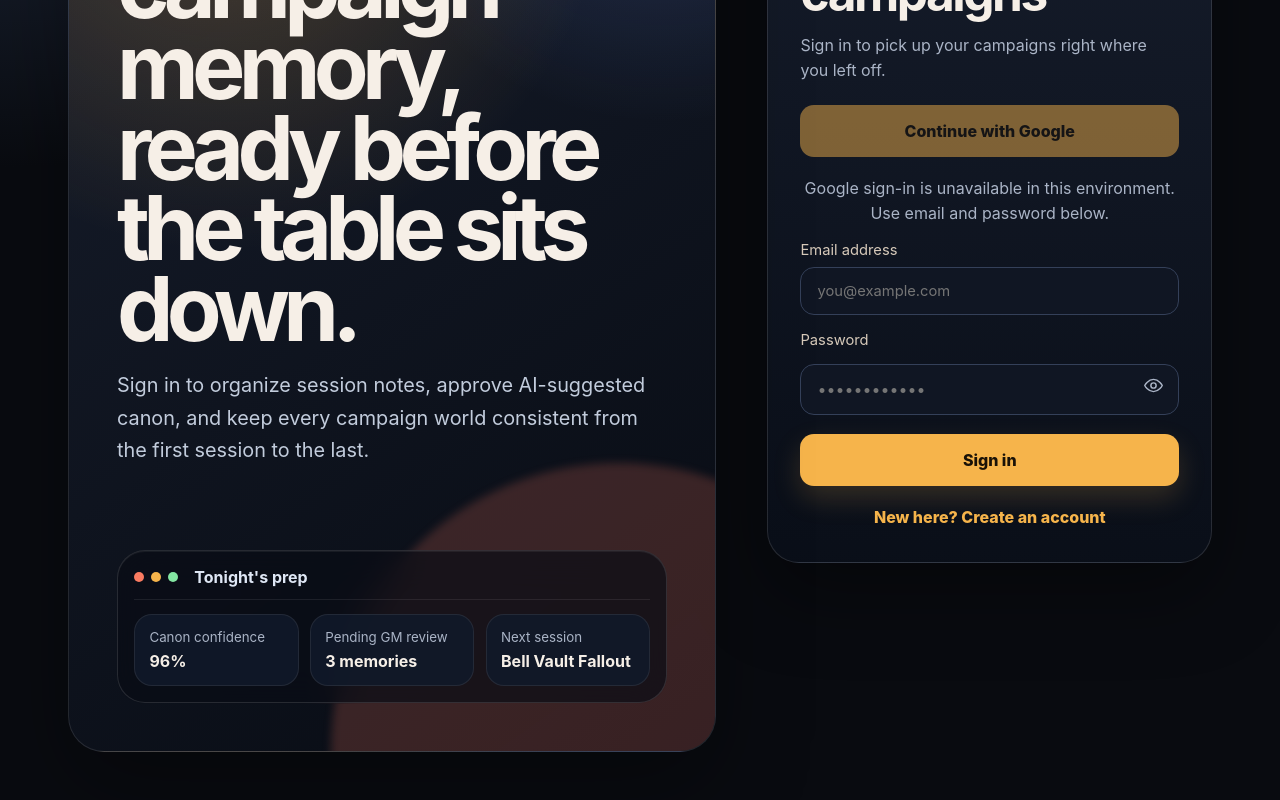
Test case: requires email verification after Firebase signup instead of opening campaigns
(page scrolled)
Click the button "New here? Create an account" at (990, 517), box [874,505,1106,530]
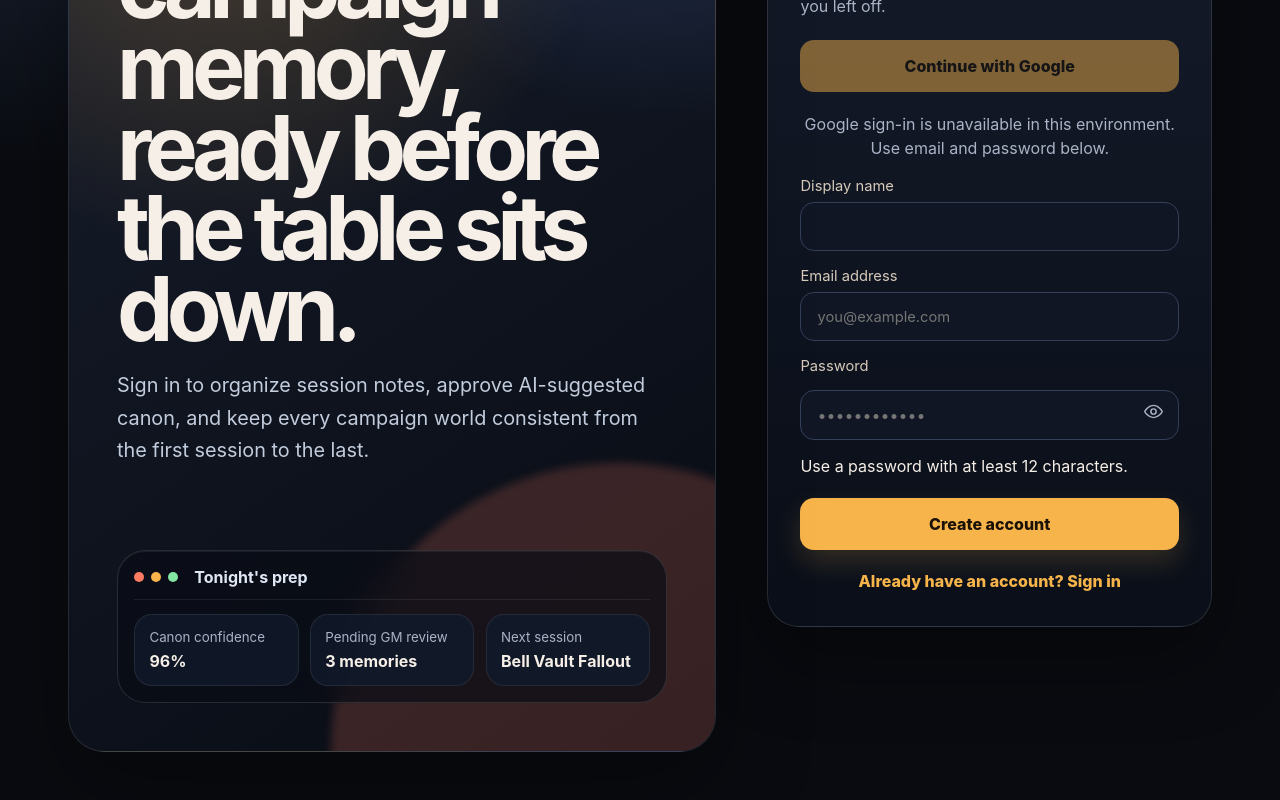
Type "GM" into the field labelled "Display name" at (990, 227), box [800,202,1179,251]
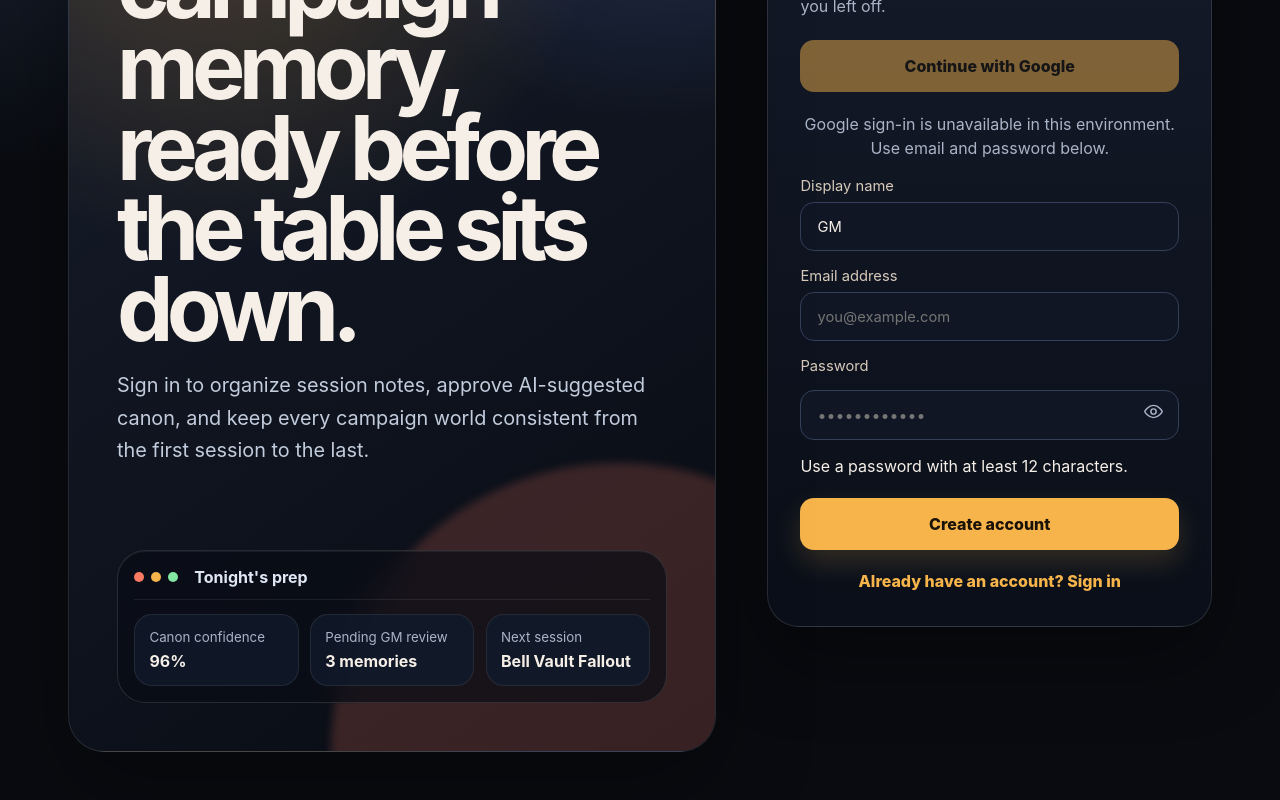
Type "gm@example.com" into the field labelled "Email address" at (990, 317), box [800,292,1179,341]
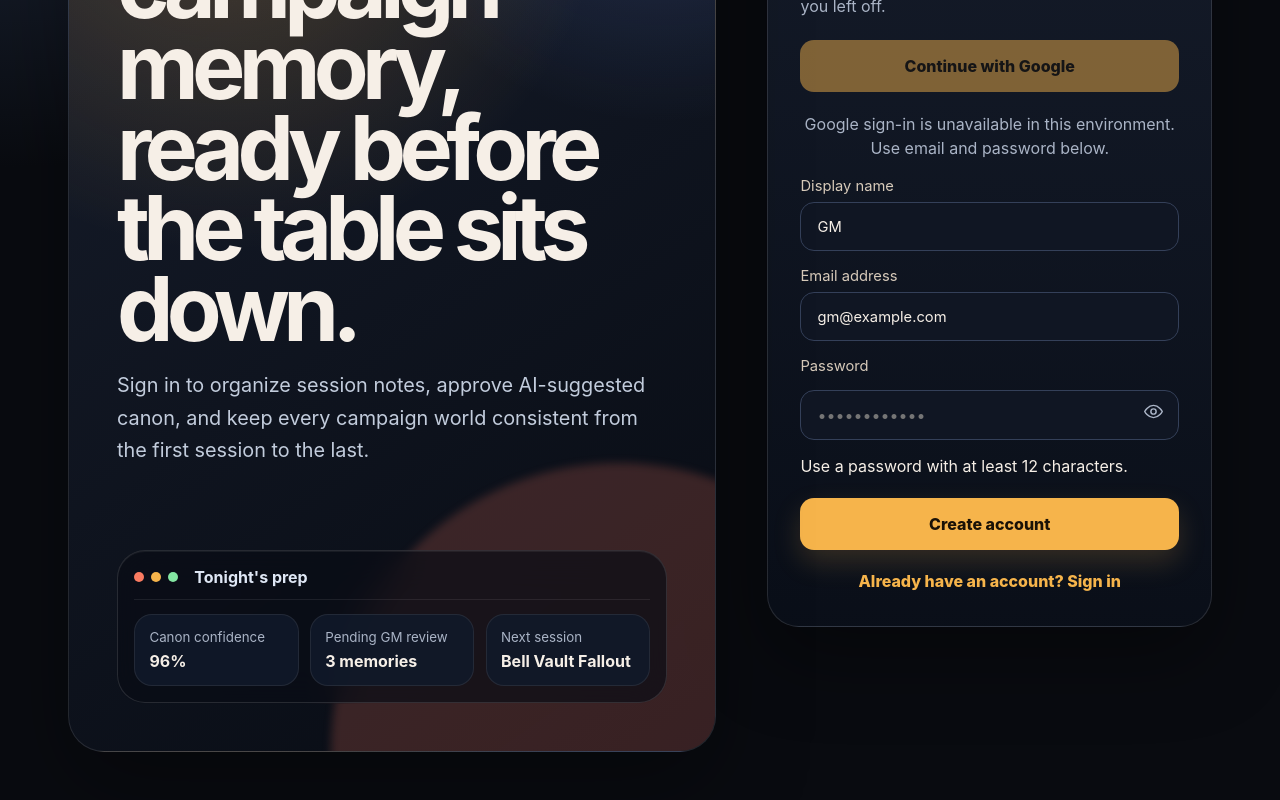
Type "strong-test-password" into the password field labelled "Password" at (990, 415), box [800,390,1179,440]
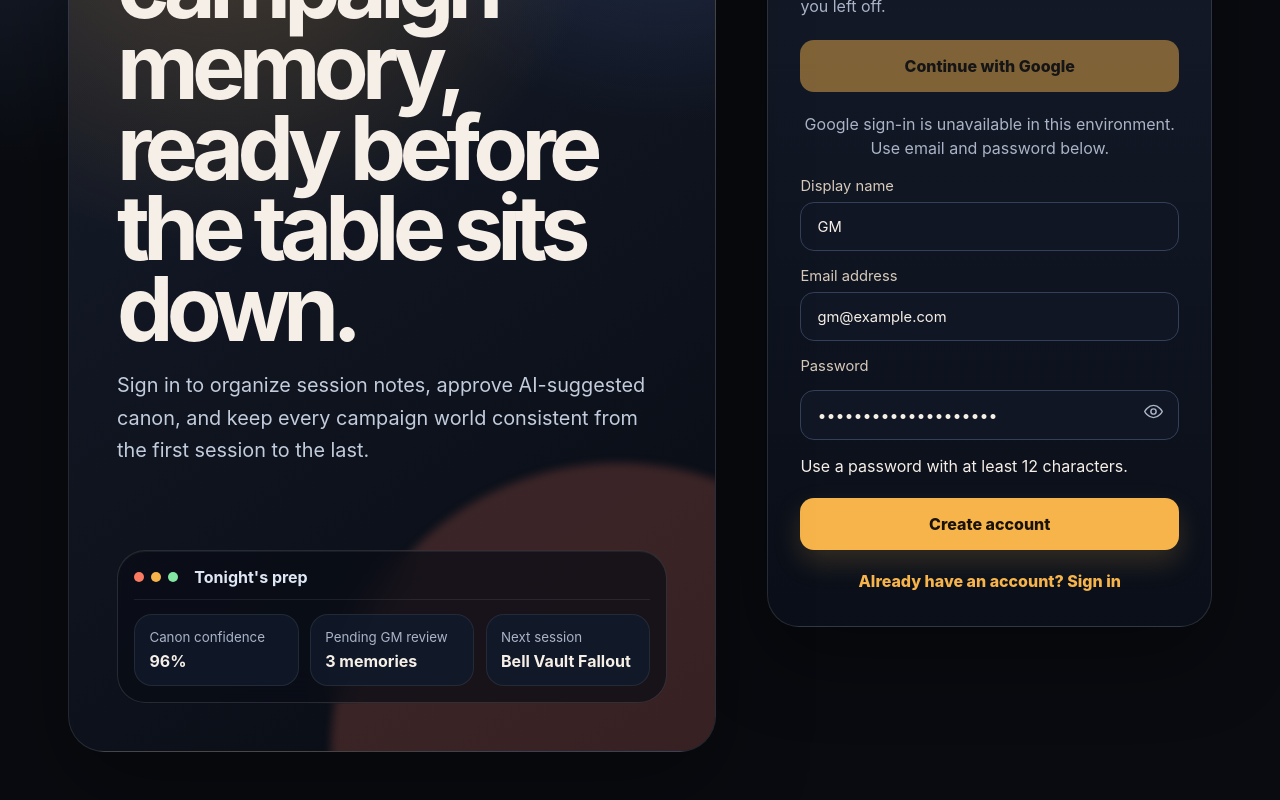
Click the button "Create account" at (990, 524), box [800,498,1179,550]
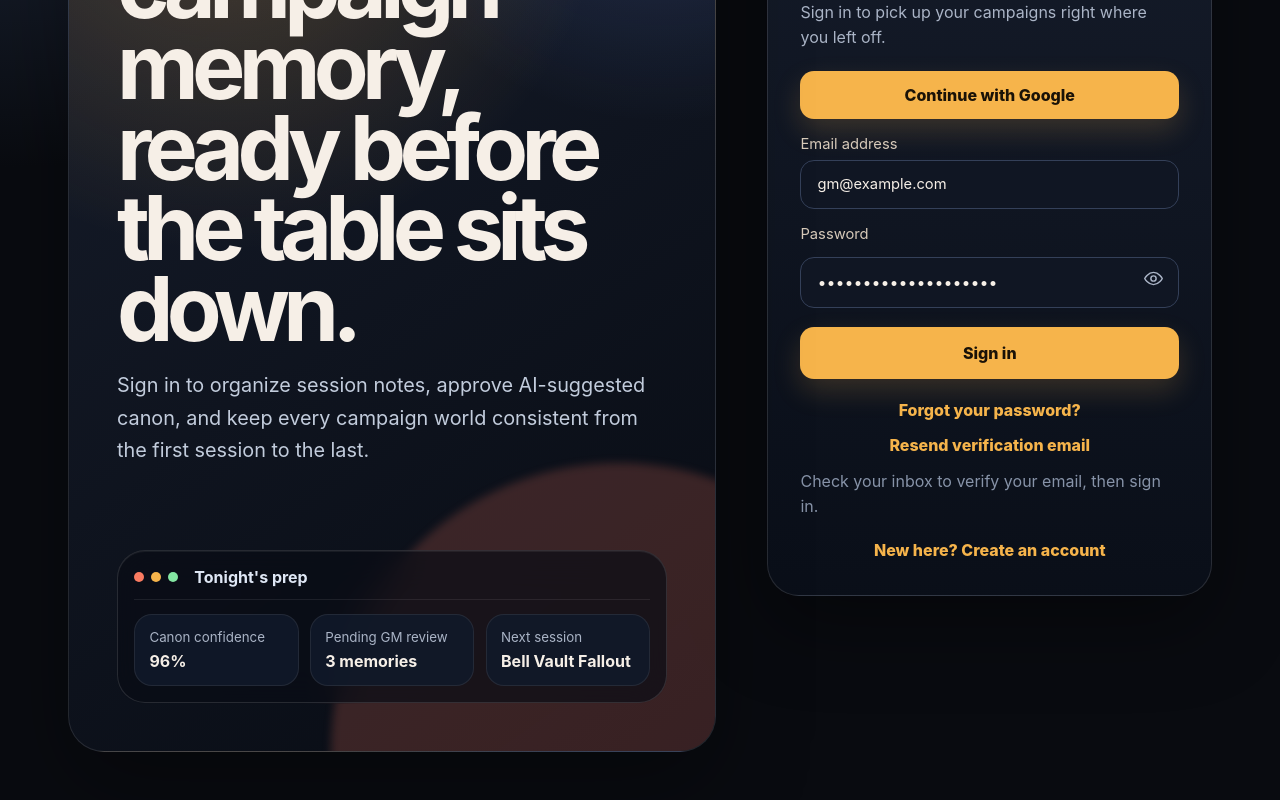
Now the text "Check your inbox to verify your email, then sign in." is shown, box [800,469,1179,519]
Click the button "Resend verification email" at (990, 445), box [889,432,1090,457]
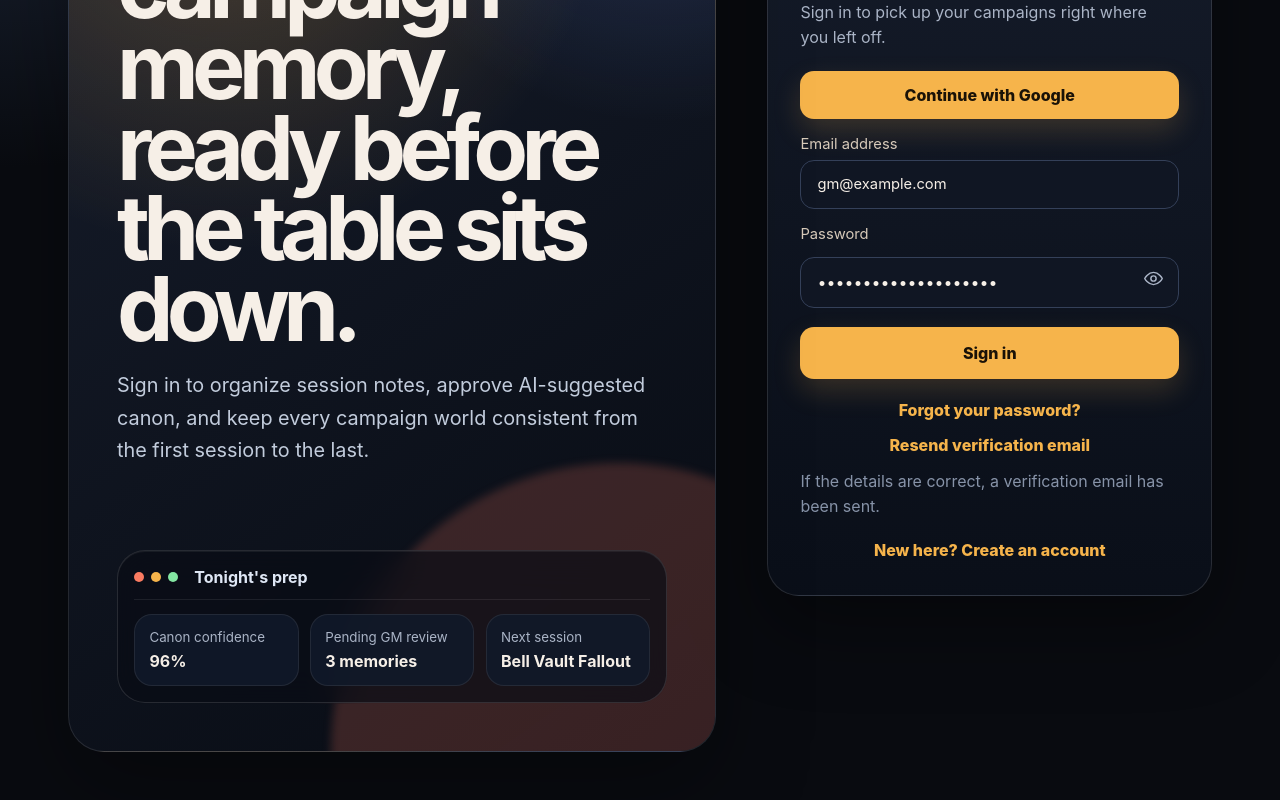
Now the text "If the details are correct, a verification email has been sent." is shown, box [800,469,1179,519]
